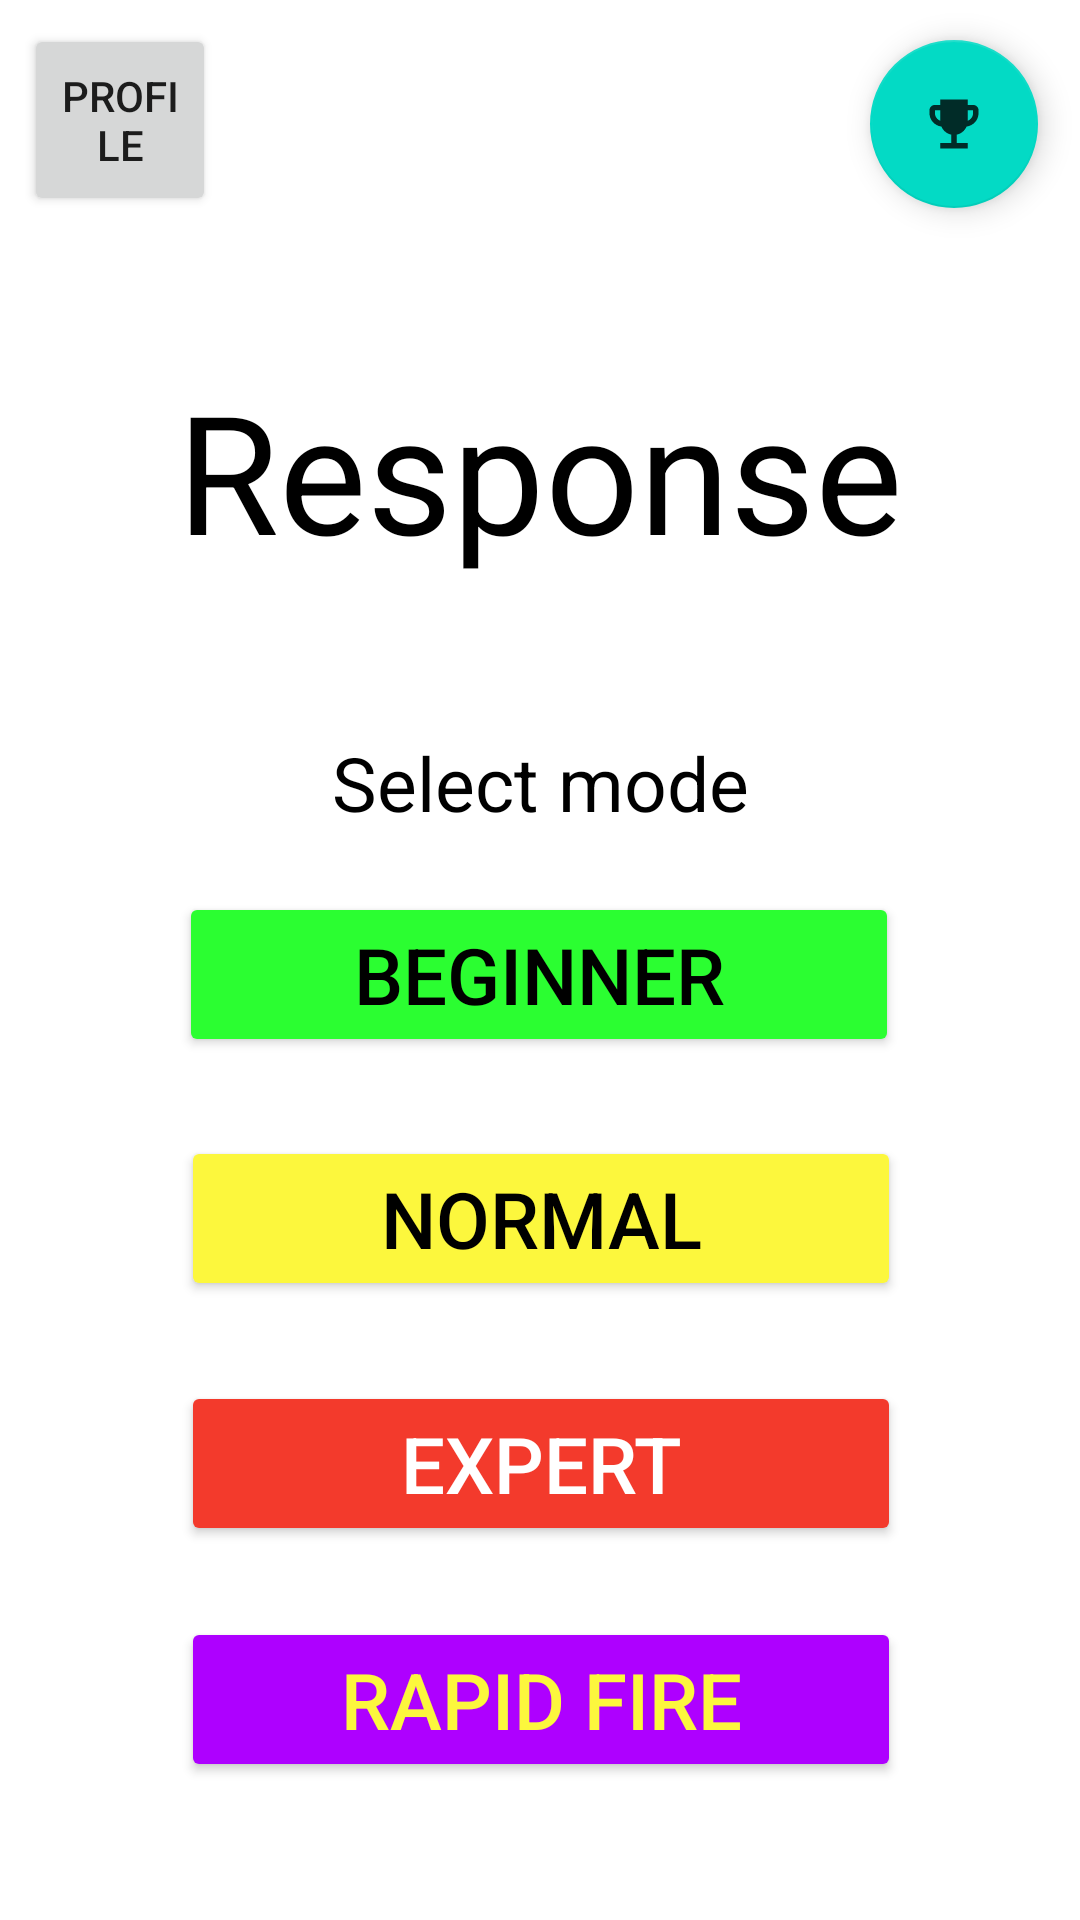

Where to tap for icons on this 1080x1920 app screen, as [x,y]:
highscore: [954,124]
